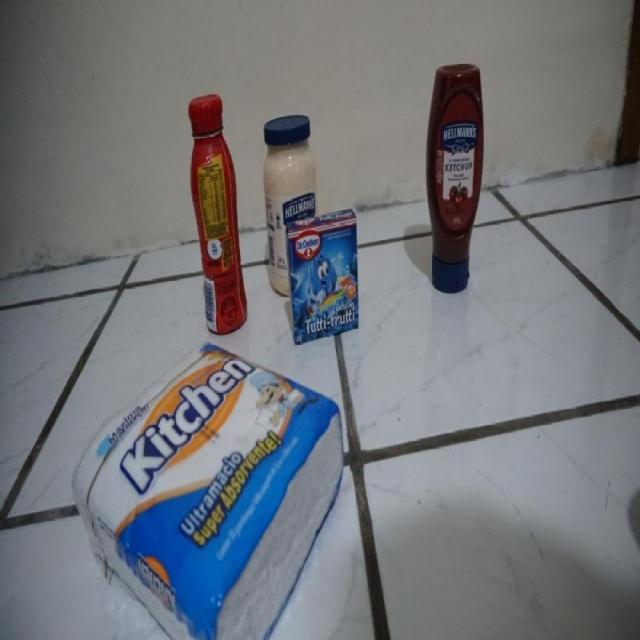ChocolateMilk: (188, 90, 247, 339)
Gelatine: (286, 204, 361, 347)
Ketchup: (424, 64, 486, 295)
Mayonnaise: (262, 112, 320, 299)
Napkin: (70, 339, 346, 640)
